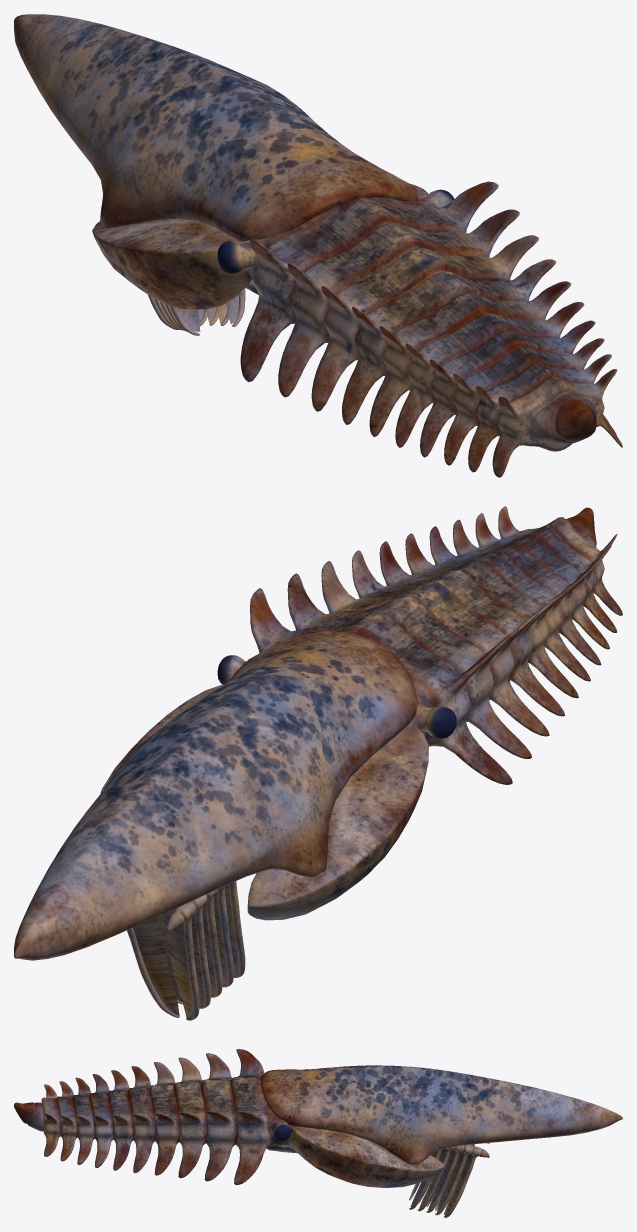
File: Aegirocassis - a 480m-year-old marine animal.glb
3 views of the same model, one above another, from view 1: azimuth 30°, elevation 25°; view 2: azimuth 150°, elevation 25°; view 3: azimuth 270°, elevation 25° (orthographic). The views are drawn at different scales.
Parts seen in each view (by area): view 1: Buffer Layer; view 2: Buffer Layer; view 3: Buffer Layer.
Boxes of the visible parts, bbox=[...] form: Buffer Layer: bbox=[14, 14, 622, 477]; Buffer Layer: bbox=[14, 506, 622, 1020]; Buffer Layer: bbox=[14, 1049, 622, 1217].
Size of the model in its own units: 0.577 by 0.5701 by 2.1.
Materials: 1 (1 with a texture image).
